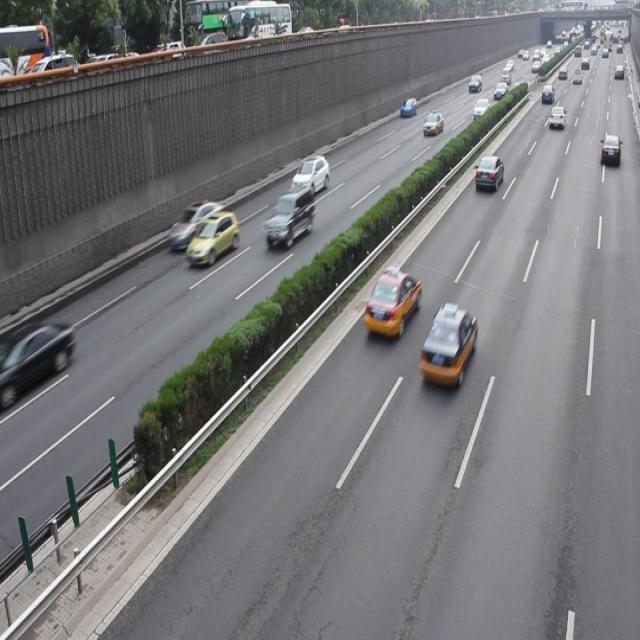car: (0, 320, 74, 402), (418, 304, 475, 387), (362, 266, 420, 338), (264, 184, 314, 250), (186, 209, 240, 266), (168, 198, 225, 251), (291, 155, 329, 195), (474, 152, 504, 193)
